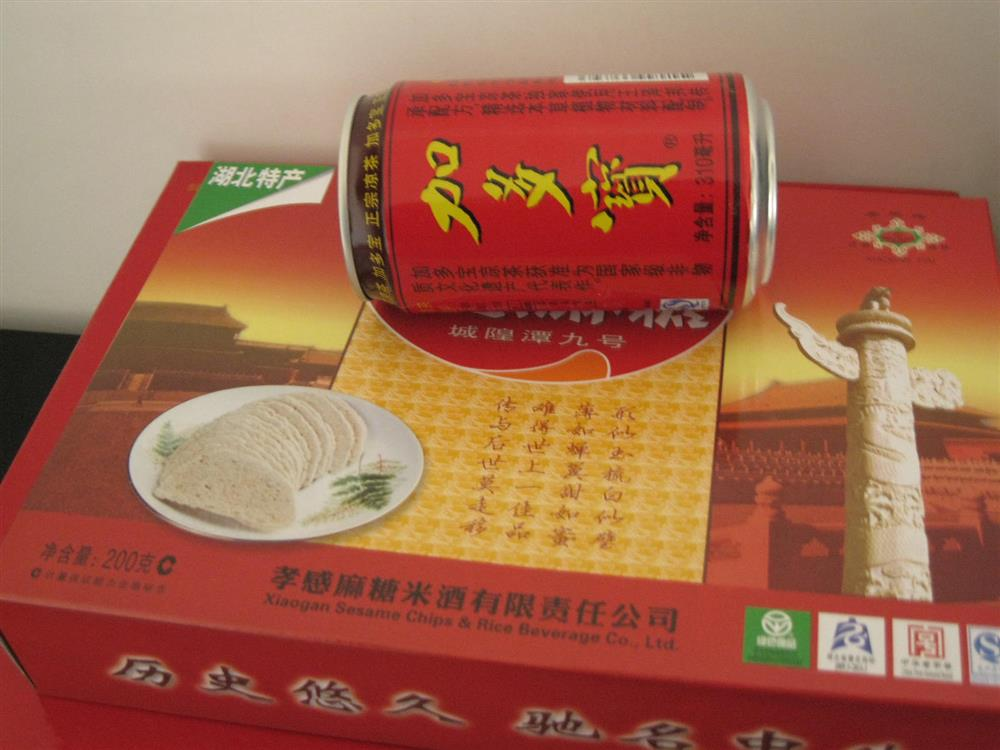JDB: (344, 76, 781, 299)
